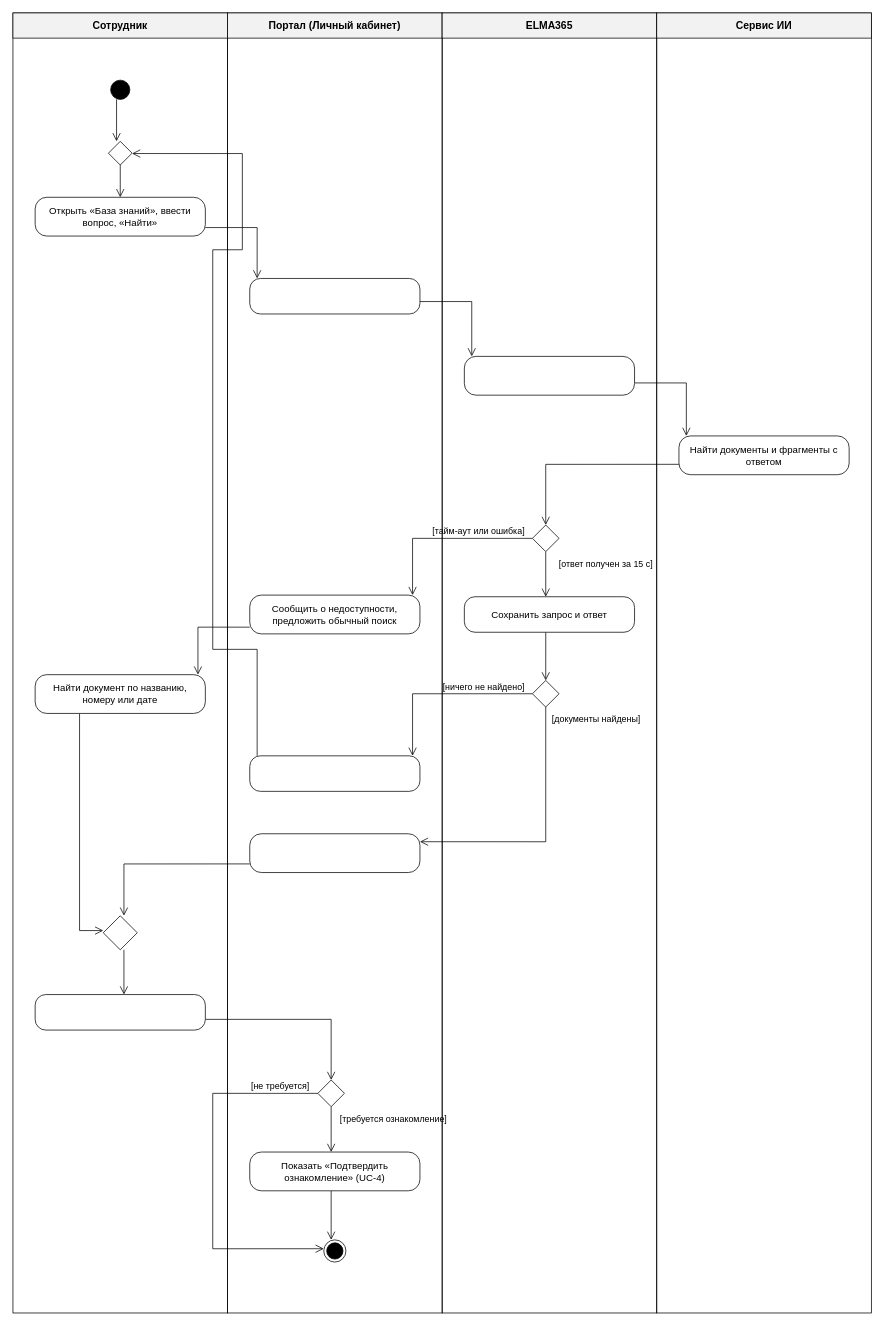
Some shapes in this 884 by 1326 pixel diagram are drawn without their labels. The shapes that lost their labels are listed below. From the top down, each one's box as (x1, y1, x2, y2) in pixels, then its label:
(249, 278, 420, 314): Передать вопрос в ELMA365
(464, 356, 635, 395): Отобрать документы, доступные сотруднику по роли
(249, 755, 420, 791): Предложить уточнить вопрос
(249, 833, 420, 873): Показать документ, версию и фрагмент с ответом
(34, 994, 205, 1030): Открыть документ
